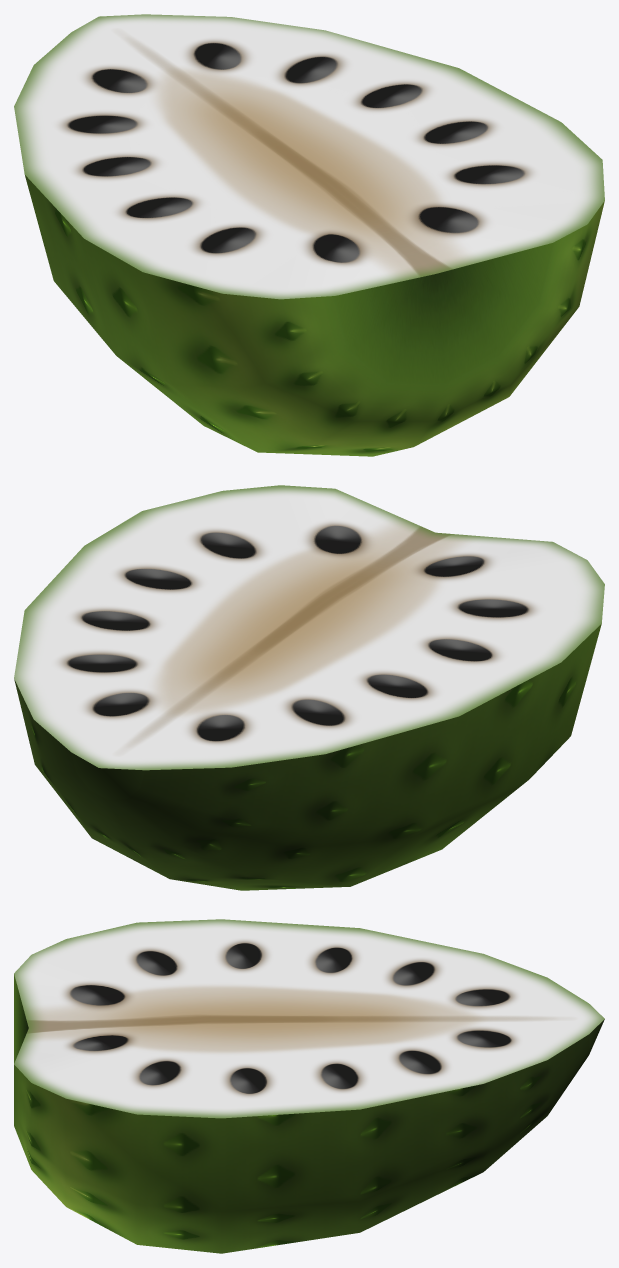
File: Soursop_Half_02.fbx
The picture shows the model from 3 angles, top to bottom: view 1: azimuth 30°, elevation 25°; view 2: azimuth 150°, elevation 25°; view 3: azimuth 270°, elevation 25°; orthographic projection. The views are drawn at different scales.
Visible parts, largest first — view 1: Soursop_Half_02; view 2: Soursop_Half_02; view 3: Soursop_Half_02.
Part boxes in pixels (x1=…): Soursop_Half_02: x1=14, y1=14, x2=604, y2=456; Soursop_Half_02: x1=14, y1=485, x2=604, y2=890; Soursop_Half_02: x1=14, y1=919, x2=604, y2=1253.
Size of the model in its own units: 43.86 by 21.98 by 54.97.
1 material, 1 textured.
